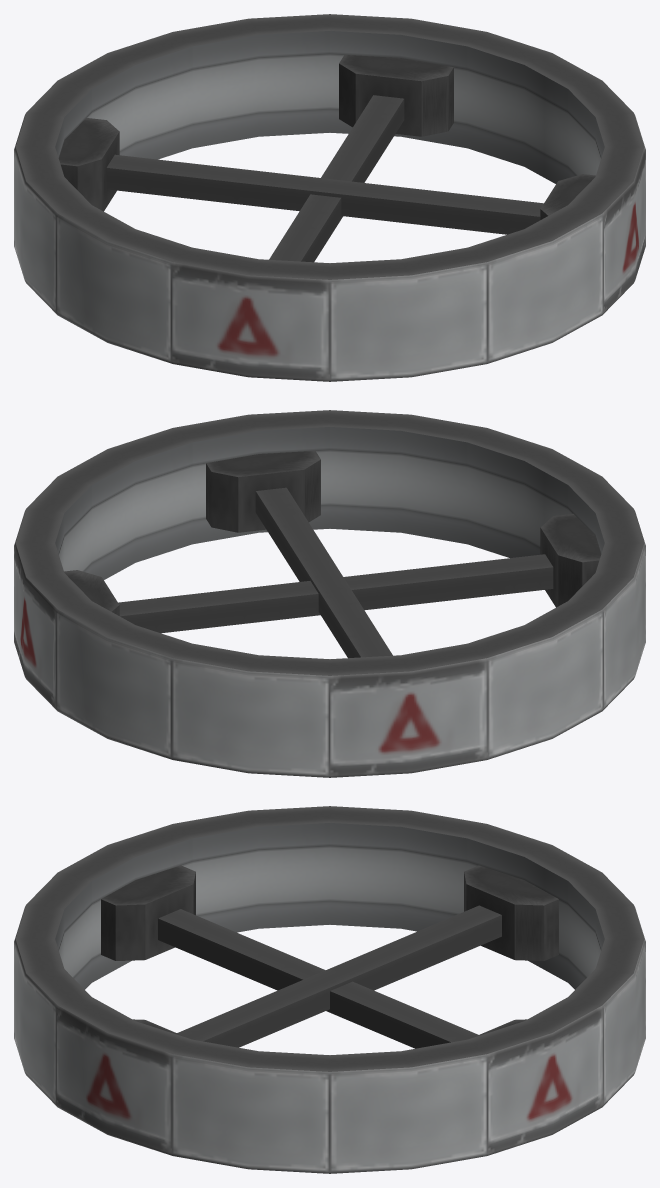
File: bluedog_9375mDecoupler.dae
3 renders of one model, top to bottom at view 1: azimuth 30°, elevation 25°; view 2: azimuth 150°, elevation 25°; view 3: azimuth 270°, elevation 25°, orthographic.
Parts seen in each view (by area): view 1: Decoupler9375m1, FairingFin8; view 2: Decoupler9375m1, FairingFin8; view 3: Decoupler9375m1, FairingFin8.
Part boxes in pixels (x1,y1,x2,y2): Decoupler9375m1: (14,14,645,381); FairingFin8: (58,55,595,219); Decoupler9375m1: (14,410,645,777); FairingFin8: (64,451,601,615); Decoupler9375m1: (14,806,645,1173); FairingFin8: (101,865,558,1038).
Size of the model in its own units: 0.9421 by 0.1677 by 0.9421.
